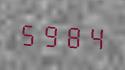eight: (62, 20, 83, 51)
five: (18, 17, 39, 48)
four: (84, 21, 105, 52)
nine: (40, 18, 61, 49)
